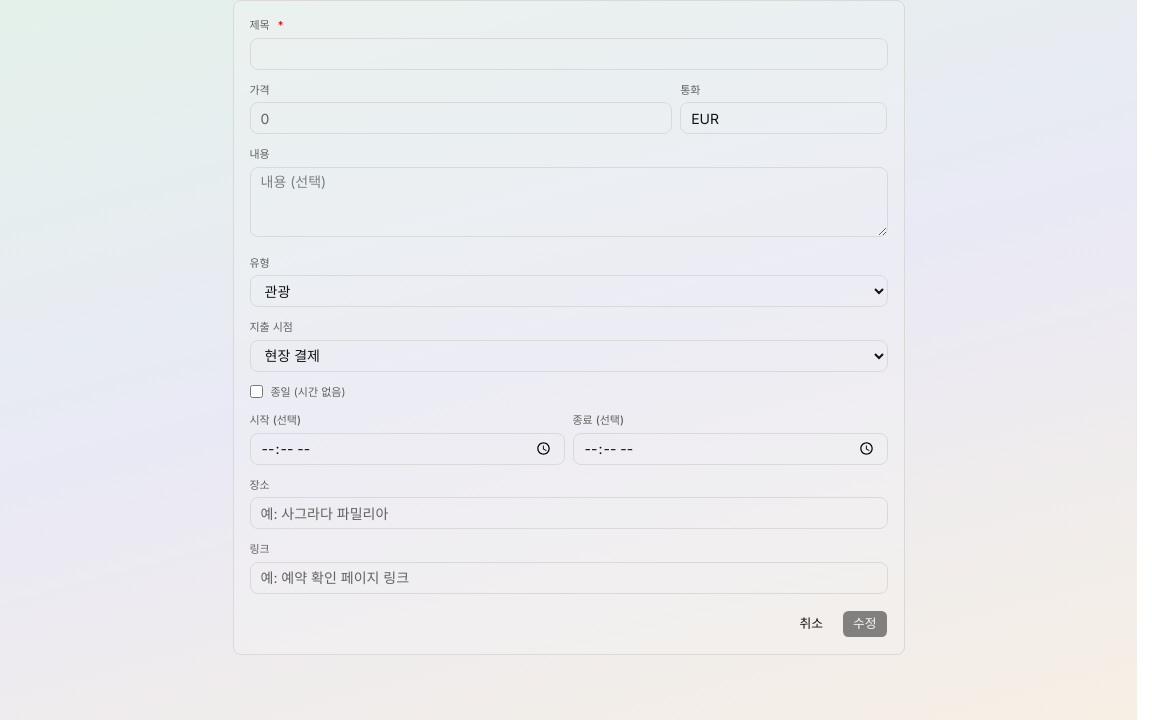
Test: ActivityForm › 종일 토글 시 시간 입력을 감춘다
Expected: the time field labelled "시작 (선택)" is shown, [250,432,564,464]
What coordinates should you click on to do the following:
click the checkbox labelled "종일 (시간 없음)"
I would click on:
 (256, 392)
Its box is [250,385,262,398].
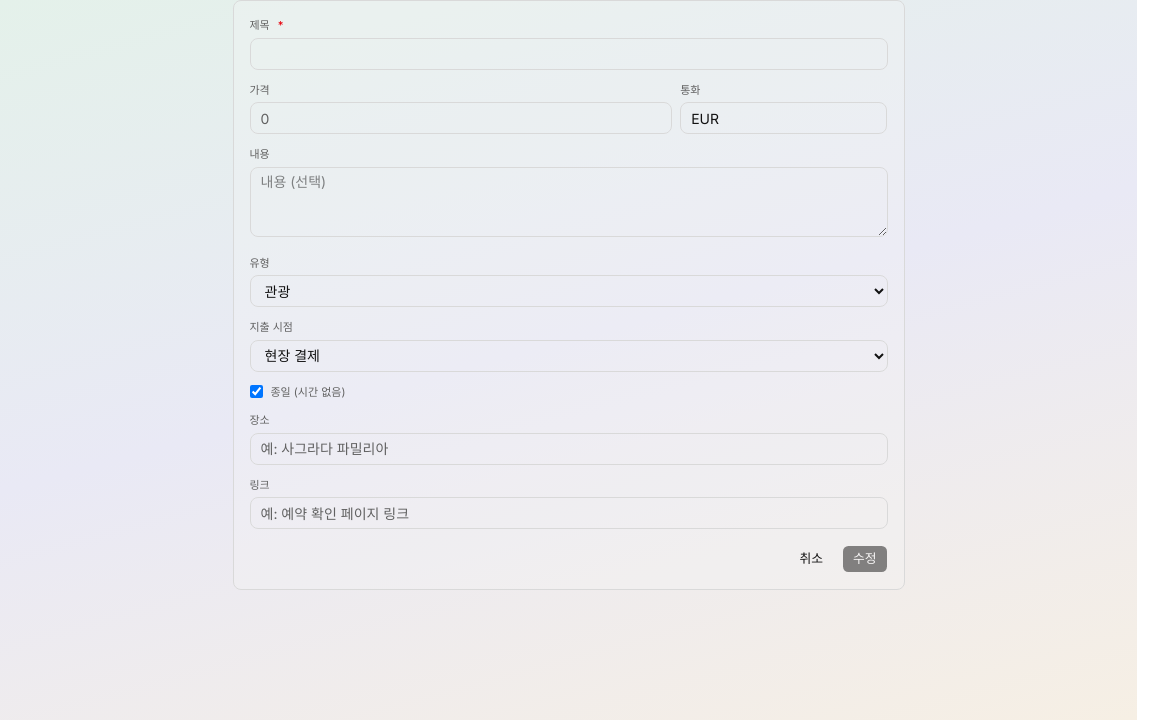
Now the label labelled "시작" is gone
